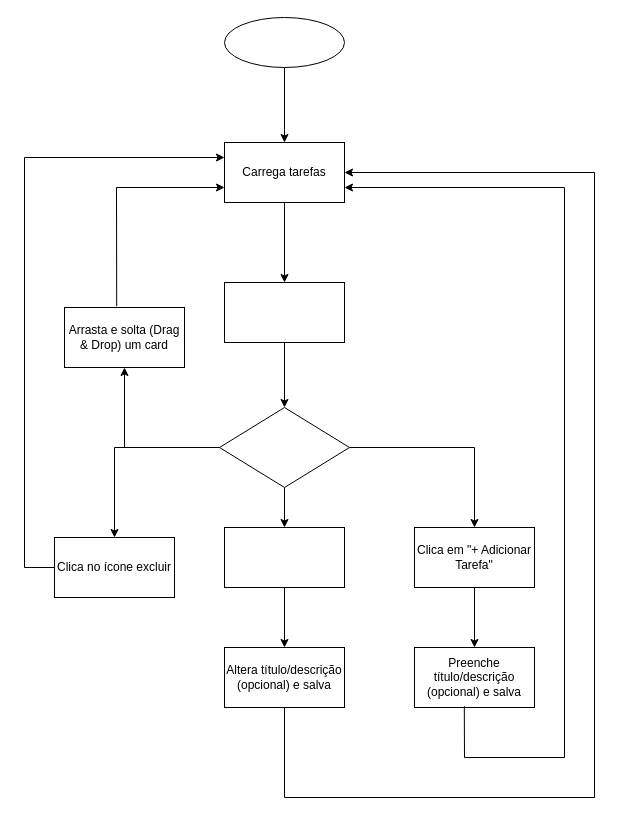
Image size: 620x823. Some labels were removed from this diagram. The centre of each missing label's shape, as x and y in pixels:
"Clica no ícone editar" goes at (284,557).
"Usuário abre a aplicação" goes at (284,42).
"Usuário interage?" goes at (284,447).
"Visualiza o Kanban Board" goes at (284,312).
